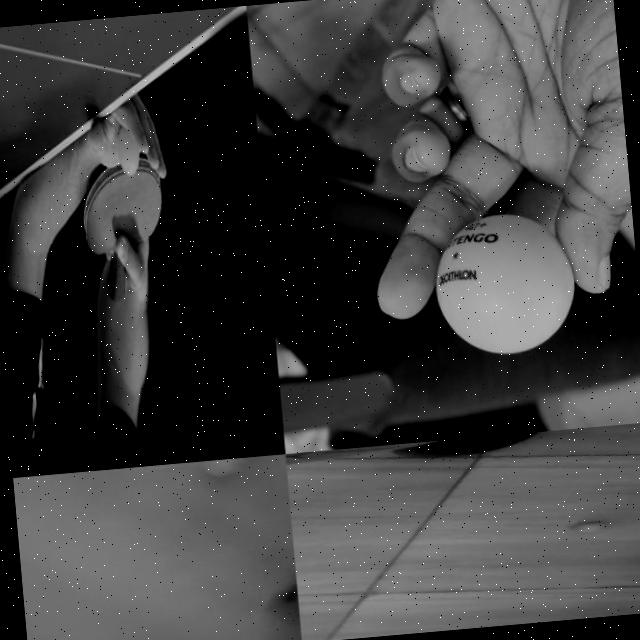ping-pong-ball: (430, 210, 580, 360), (116, 121, 140, 176), (204, 458, 245, 479), (572, 520, 608, 532)
